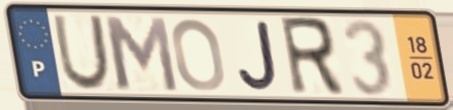3: (341, 14, 396, 102)
J: (235, 18, 281, 94)
M: (99, 13, 182, 95)
O: (169, 16, 228, 94)
R: (276, 15, 348, 99)
U: (50, 13, 113, 94)
